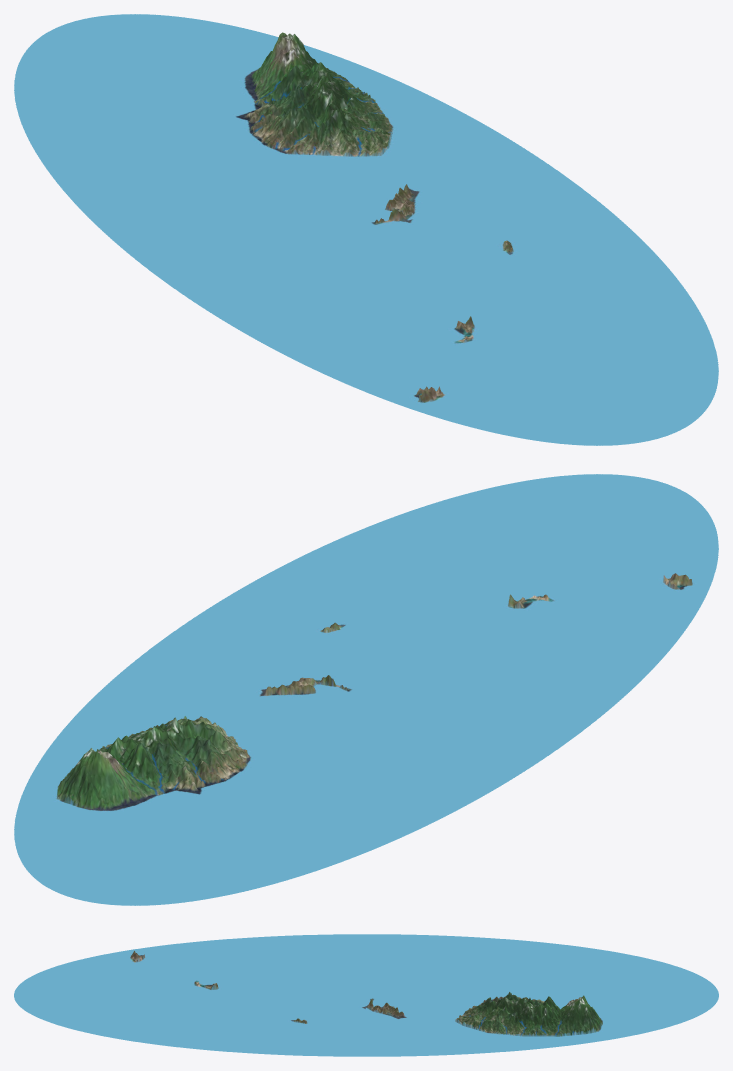
File: VCT-previa-terrain.glb
The picture shows the model from 3 angles, top to bottom: view 1: azimuth 30°, elevation 25°; view 2: azimuth 150°, elevation 25°; view 3: azimuth 270°, elevation 25°; orthographic projection. The views are drawn at different scales.
Parts seen in each view (by area): view 1: São Vicente e Granadinas; view 2: São Vicente e Granadinas; view 3: São Vicente e Granadinas.
Boxes of the visible parts, left/top/right/bottom form: São Vicente e Granadinas: left=14, top=14, right=718, bottom=445; São Vicente e Granadinas: left=14, top=474, right=718, bottom=905; São Vicente e Granadinas: left=14, top=934, right=718, bottom=1056.
Bounding box in the file's own units: 1.08 × 0.1154 × 2.62.
1 material, 1 textured.
